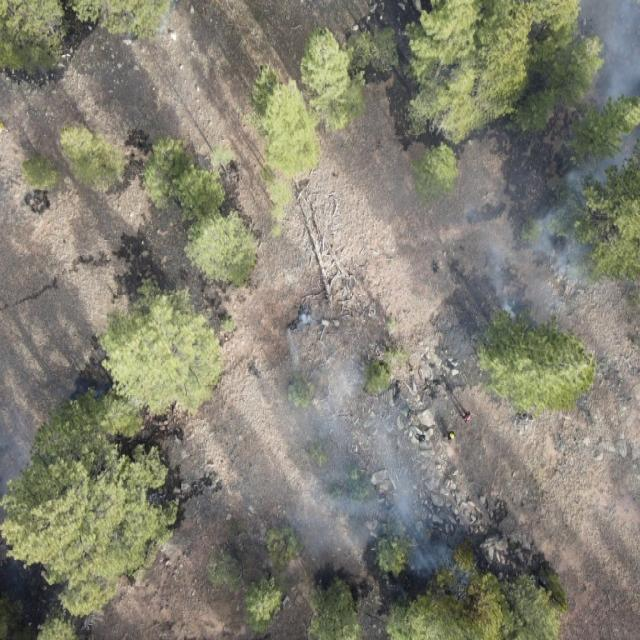smoke: (265, 304, 492, 604), (457, 0, 640, 335), (0, 418, 37, 500), (131, 8, 177, 51)
